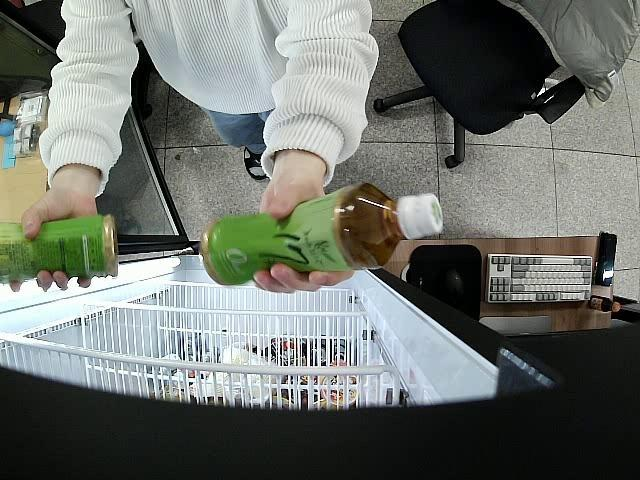19_17cha: (200, 182, 444, 289), (0, 213, 119, 284)
